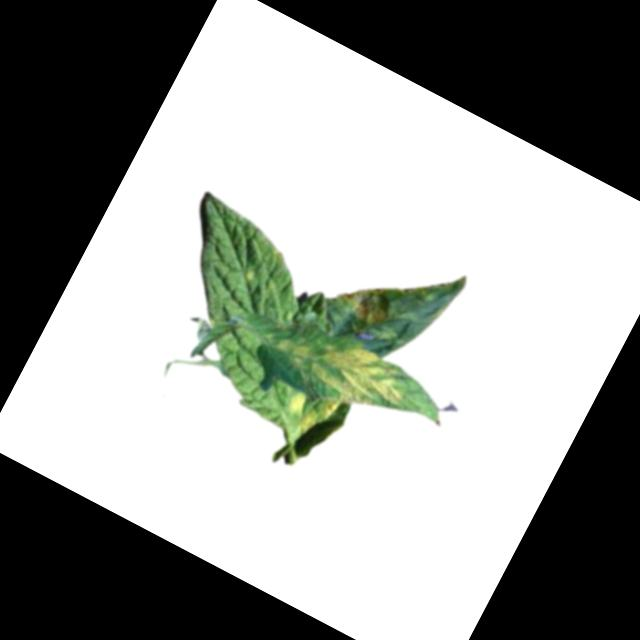Leaf_Mold: (266, 311, 414, 425), (329, 266, 407, 337), (281, 381, 341, 442)
